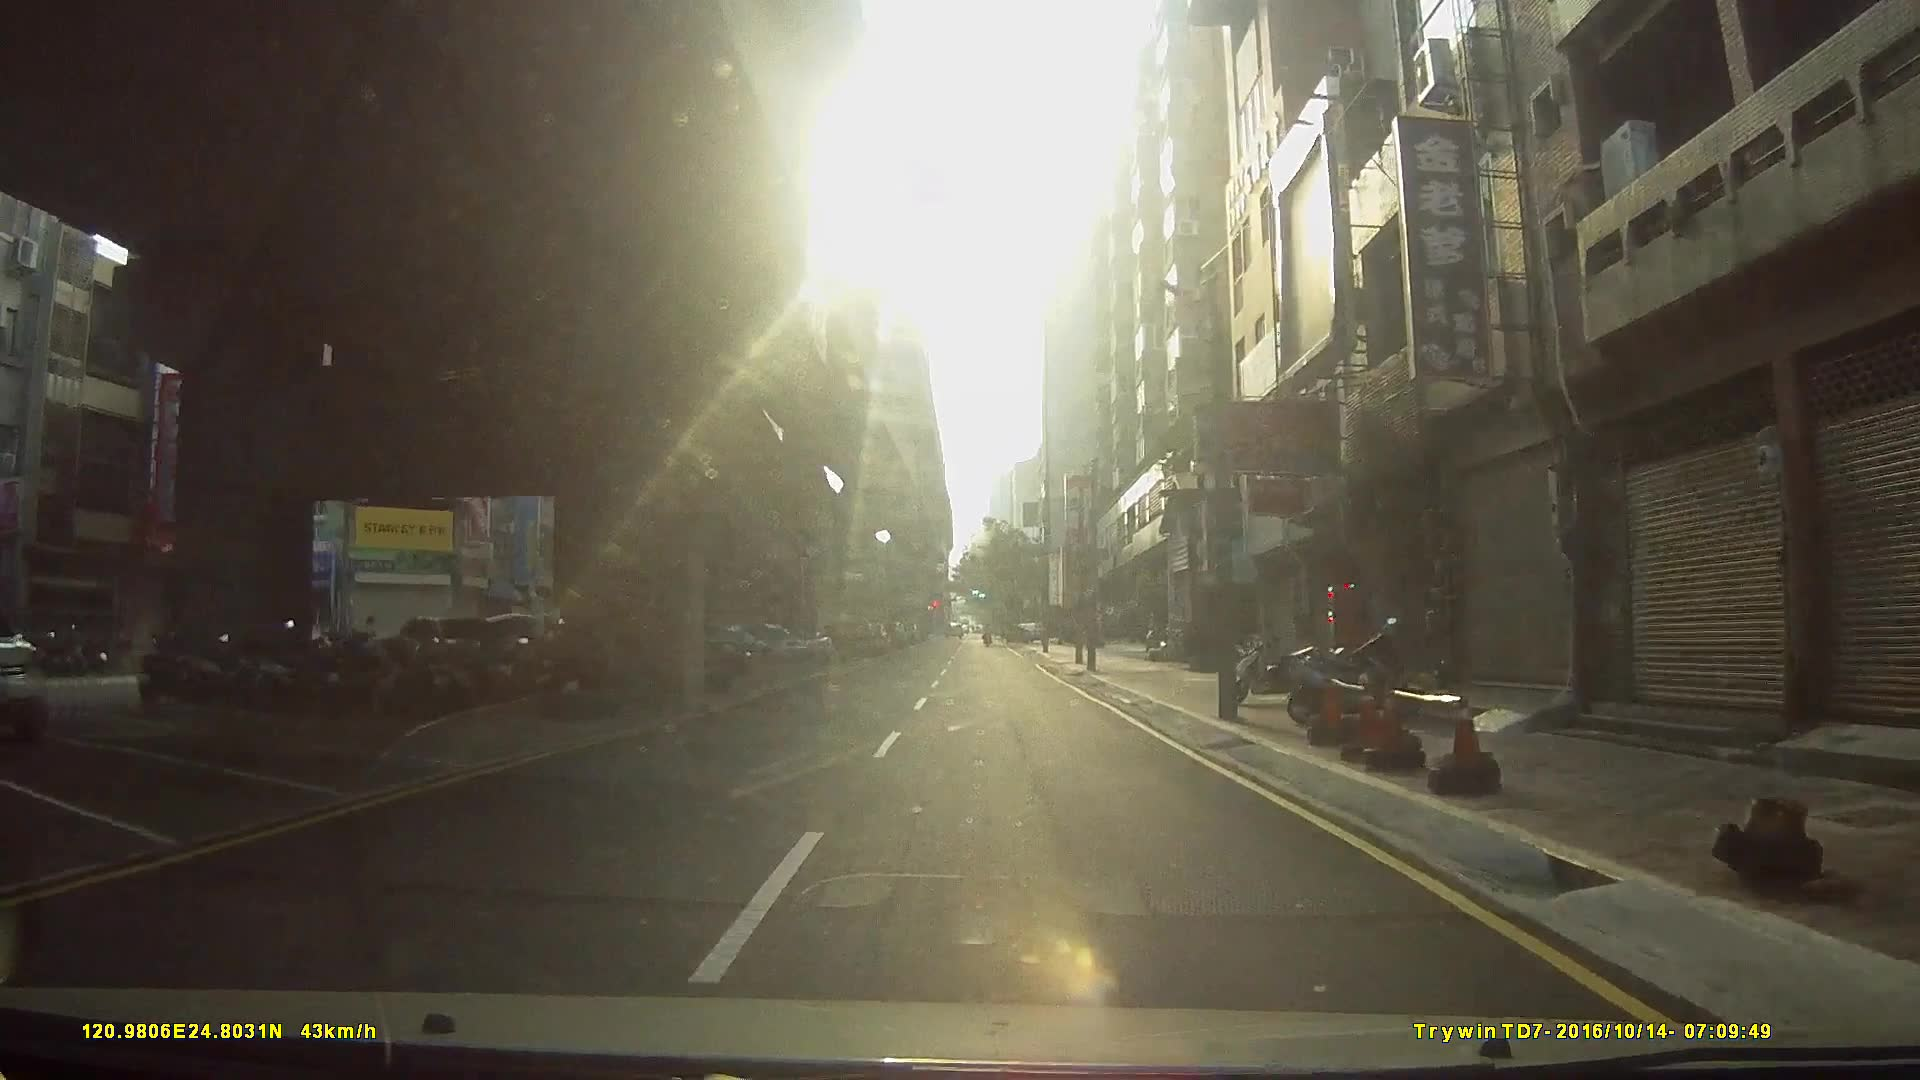vehicle: (0, 607, 47, 745)
